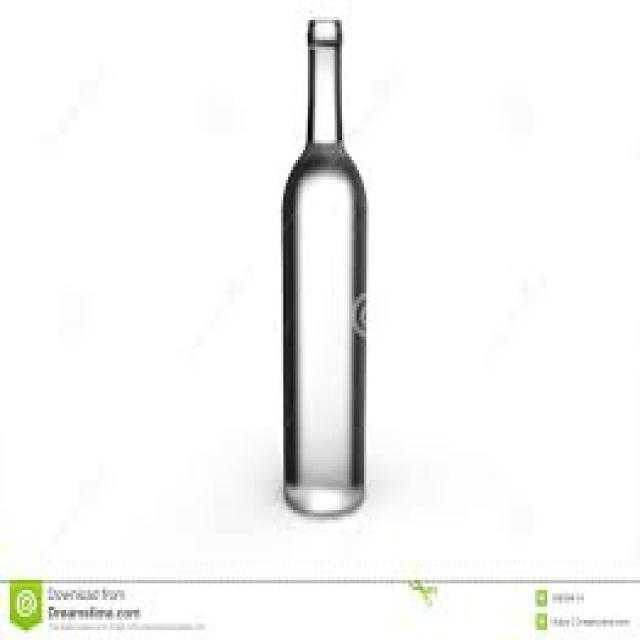glass: (283, 13, 364, 517)
